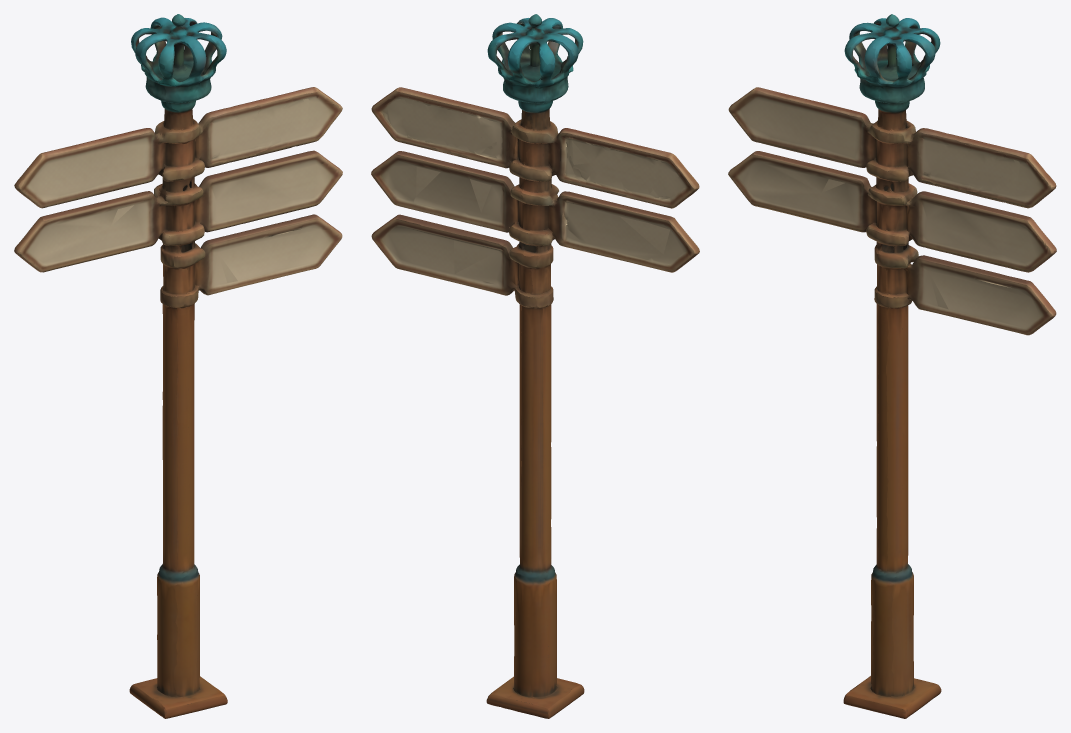
The model's file is unified--wayfinder.glb.
3 views of the same model, side by side, from view 1: azimuth 30°, elevation 25°; view 2: azimuth 150°, elevation 25°; view 3: azimuth 330°, elevation 25° (orthographic).
Parts seen in each view (by area): view 1: wayfinder-1; view 2: wayfinder-1; view 3: wayfinder-1.
Boxes of the visible parts, x1,y1,x2,y2 form: wayfinder-1: [14, 14, 342, 718]; wayfinder-1: [371, 14, 699, 718]; wayfinder-1: [728, 14, 1056, 718].
Size of the model in its own units: 1.1 by 2.2 by 0.2708.
Materials: 1 (1 with a texture image).
